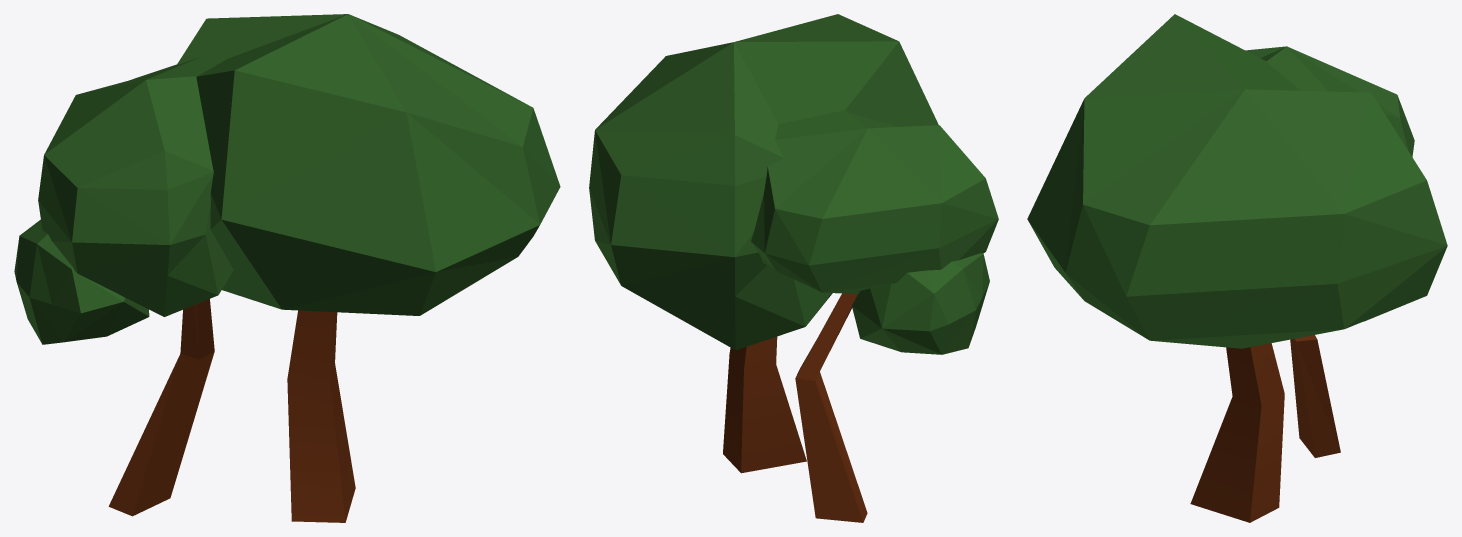
Rendered from Bush_temp_climate_002.fbx.
The picture shows the model from 3 angles, left to right: view 1: azimuth 30°, elevation 25°; view 2: azimuth 150°, elevation 25°; view 3: azimuth 270°, elevation 25°; orthographic projection. The views are drawn at different scales.
Parts seen in each view (by area): view 1: Bush_temp_climate_002; view 2: Bush_temp_climate_002; view 3: Bush_temp_climate_002.
Boxes of the visible parts, x1,y1,x2,y2 form: Bush_temp_climate_002: (14,14,560,522); Bush_temp_climate_002: (589,14,998,522); Bush_temp_climate_002: (1027,14,1447,522).
Size of the model in its own units: 73.02 by 76.59 by 66.51.
